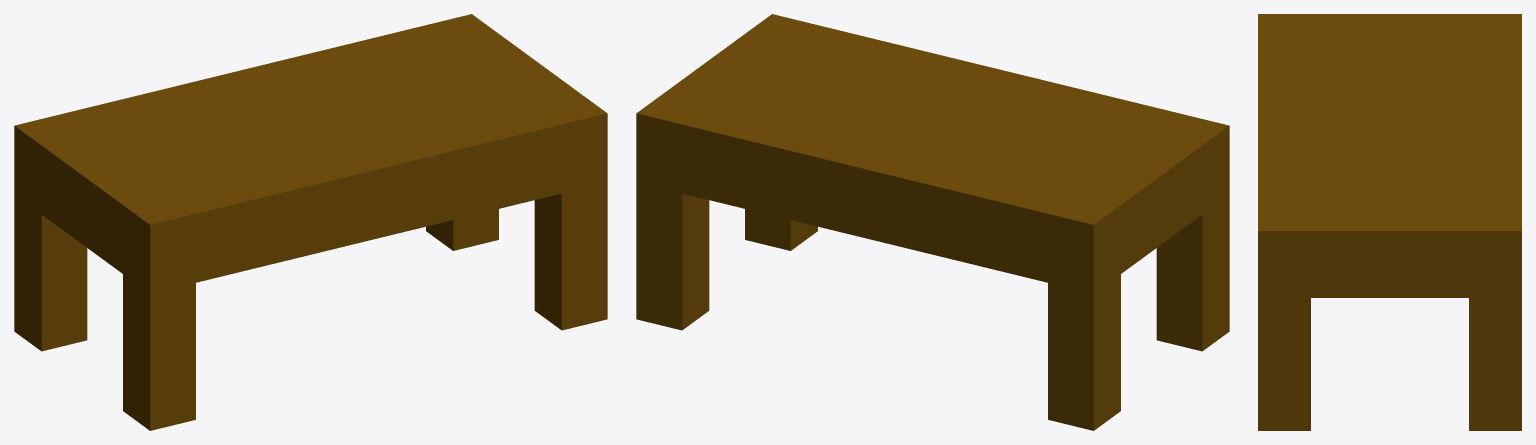
File: Default Table.fbx
3 renders of one model, left to right at view 1: azimuth 30°, elevation 25°; view 2: azimuth 150°, elevation 25°; view 3: azimuth 270°, elevation 25°, orthographic. The views are drawn at different scales.
Visible parts, largest first — view 1: pCube2; view 2: pCube2; view 3: pCube2.
Part boxes in pixels (<box>): pCube2: <box>14,14,607,430</box>; pCube2: <box>636,14,1229,430</box>; pCube2: <box>1258,14,1521,430</box>.
Size of the model in its own units: 6.93 by 2.98 by 3.56.
